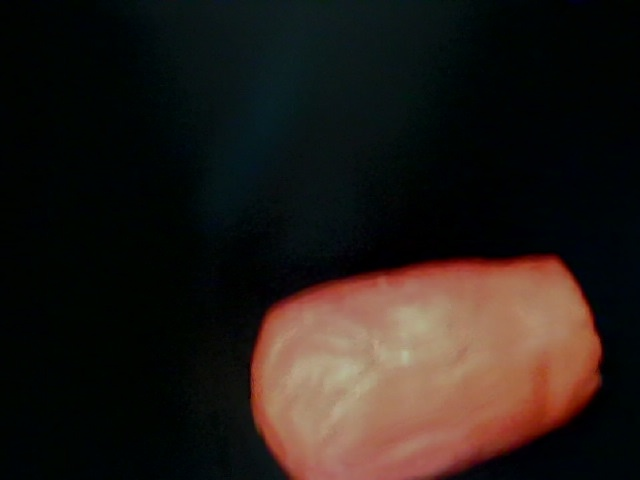KHSLJ: (1, 82, 284, 374)
